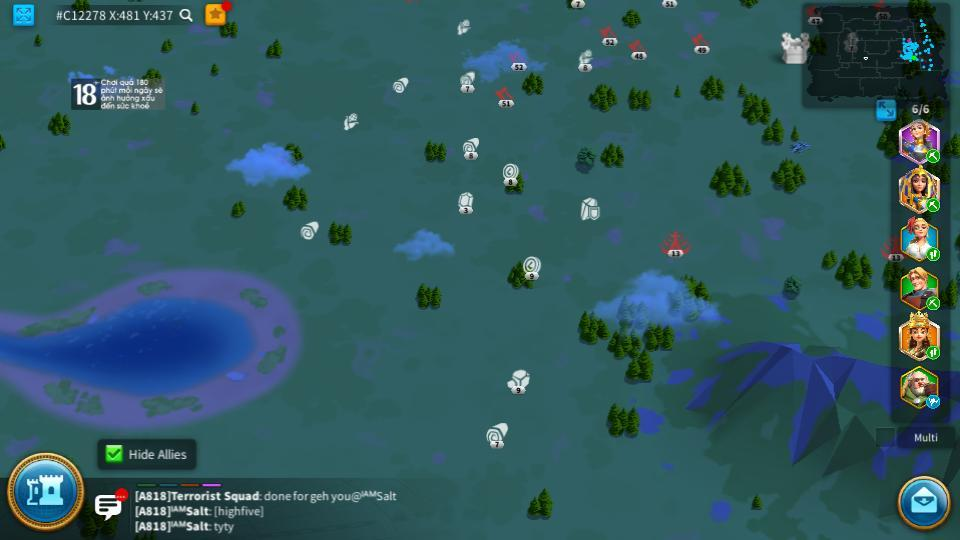gem-z-out: (455, 191, 476, 213)
march_farming: (925, 197, 941, 212)
march_idle: (925, 394, 942, 408)
march_marching: (925, 347, 941, 359), (925, 150, 941, 162), (926, 297, 942, 308)
